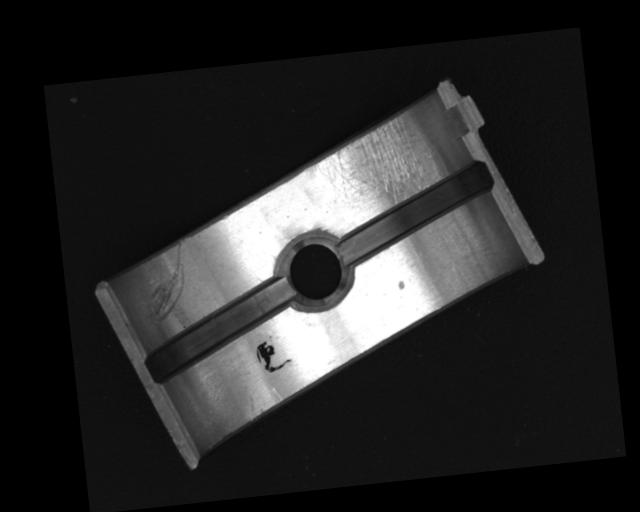blot: (254, 337, 295, 375)
bruise: (397, 279, 406, 291)
gap: (135, 277, 301, 385), (333, 159, 500, 266)
hole: (277, 235, 353, 312)
nick: (141, 240, 192, 325)
scratch: (306, 110, 445, 212)
